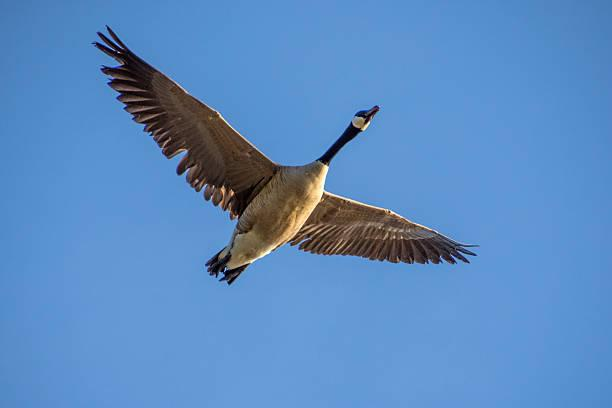Canadian-Goose: (93, 19, 472, 304)
